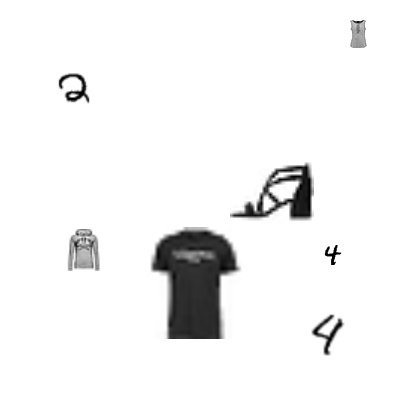2: (53, 66, 95, 108)
4: (298, 303, 354, 359), (318, 240, 346, 268)
Pullover: (62, 229, 104, 271)
Sandal: (230, 151, 314, 235)
Shirt: (344, 20, 372, 48)
T-shirt/top: (140, 227, 252, 339)
